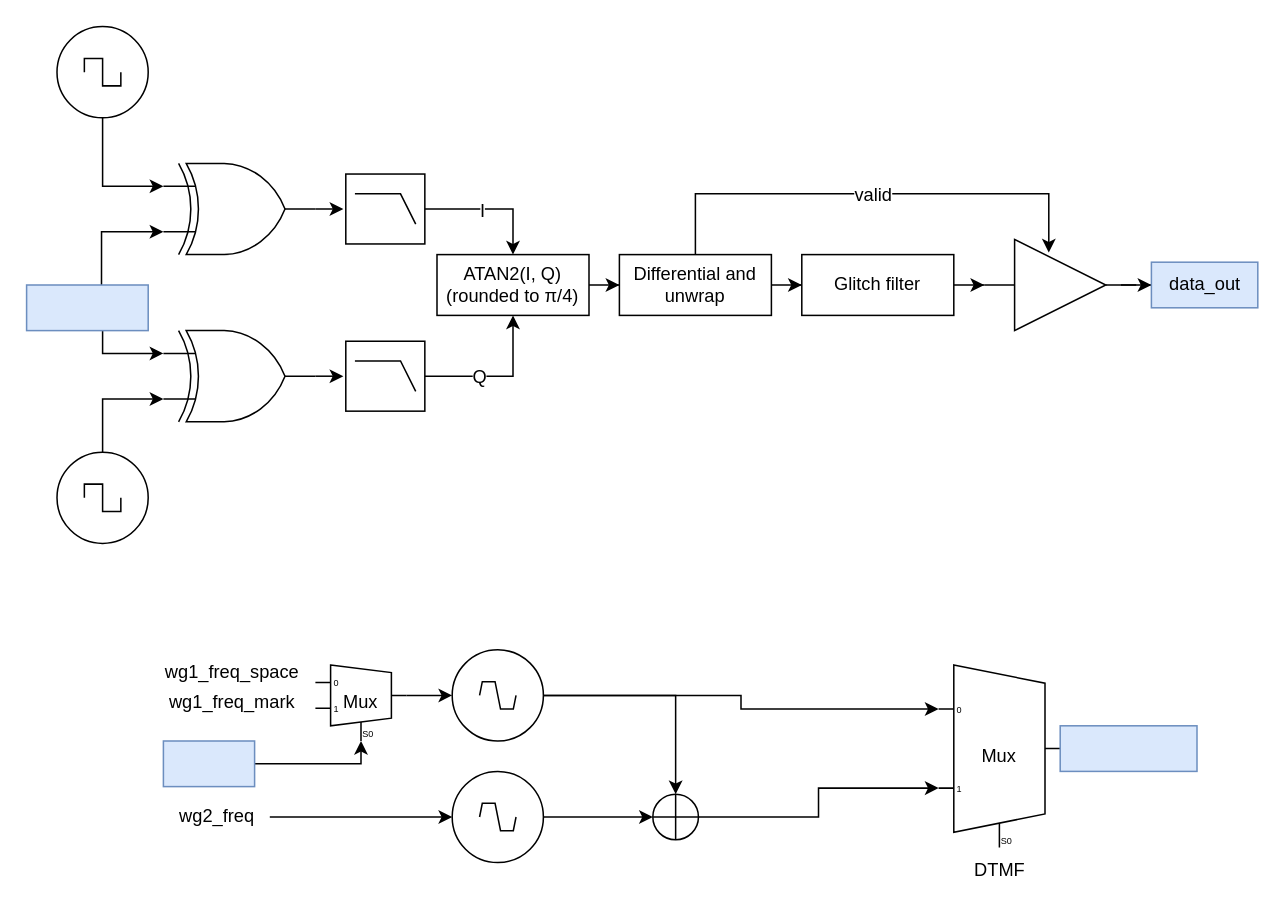
Some shapes in this 1284 by 920 pixel diagram are drawn without their labels. Here are the shapes that lost their labels. From the top down, the box of each, then its label:
(25, 283, 148, 331): samples_in
(162, 739, 255, 787): data_in
(1059, 724, 1197, 771): samples_out
